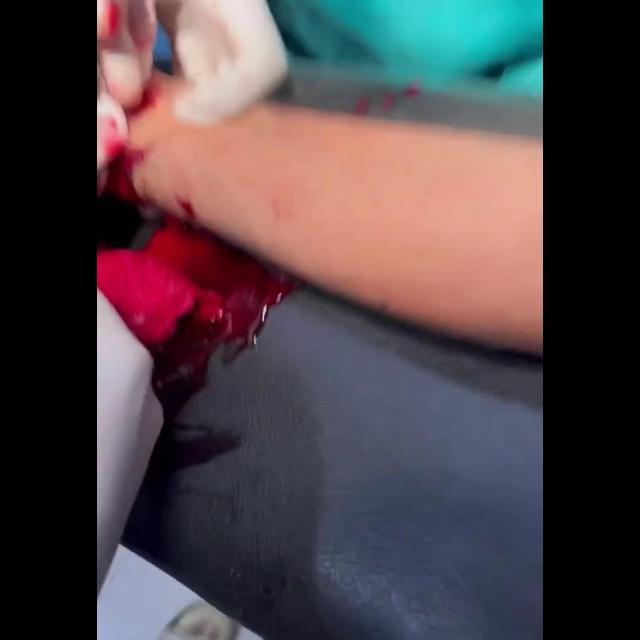blood: (97, 215, 295, 416), (97, 48, 145, 206)
